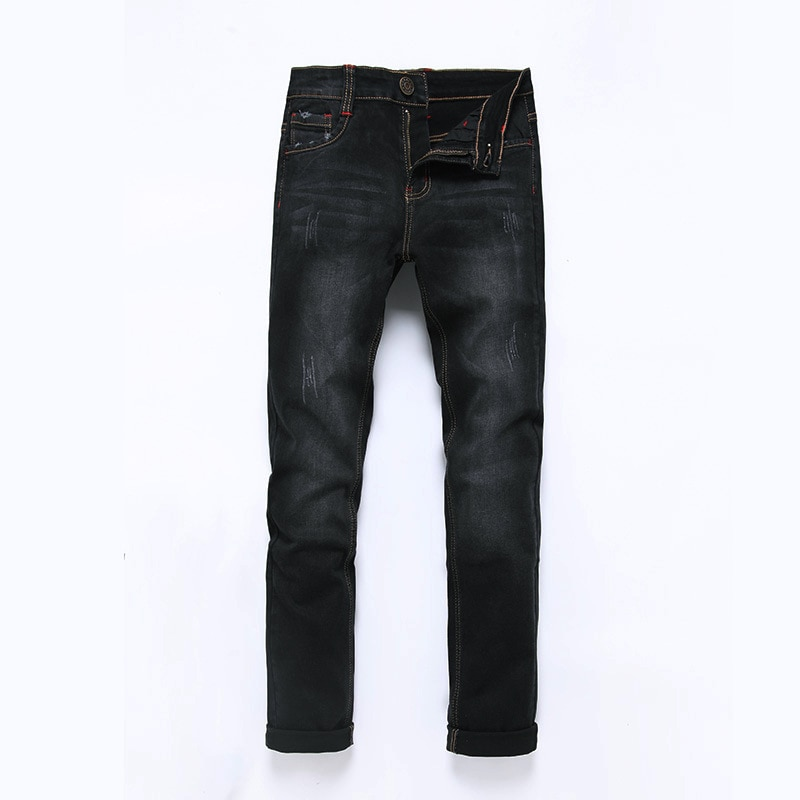jeans: (233, 55, 581, 766)
